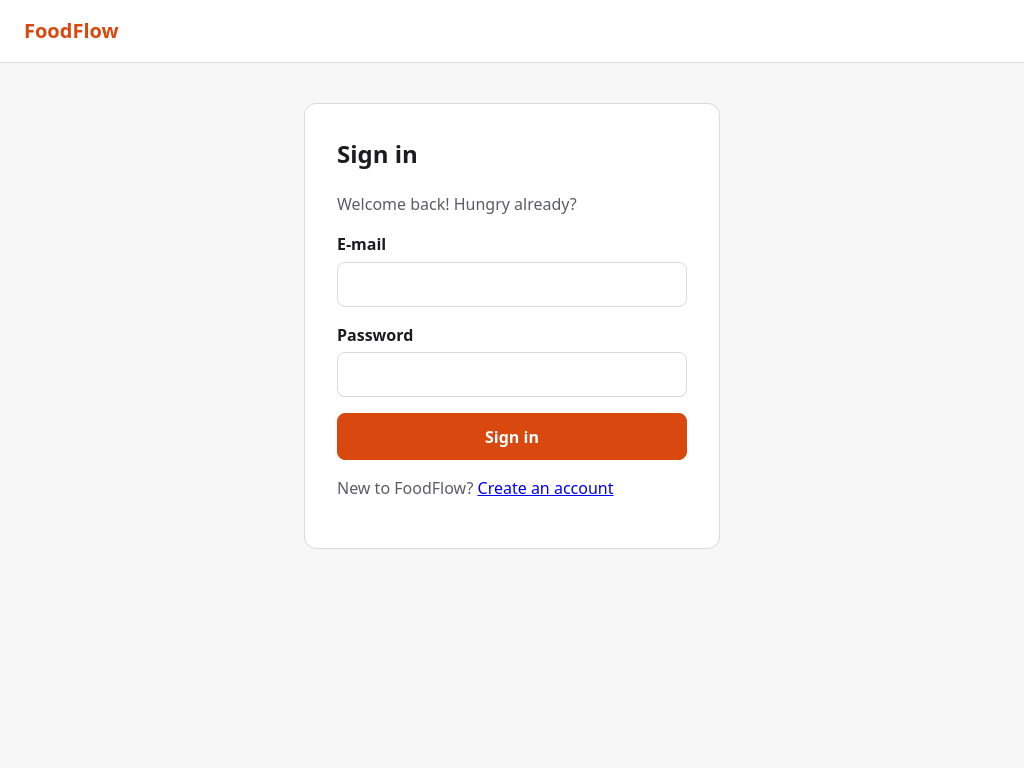
Test: sign in › explains a temporary lockout
The image size is (1024, 768).
Type "jane@example.com" into the field labelled "E-mail" at [512, 284], box [337,262,687,307]
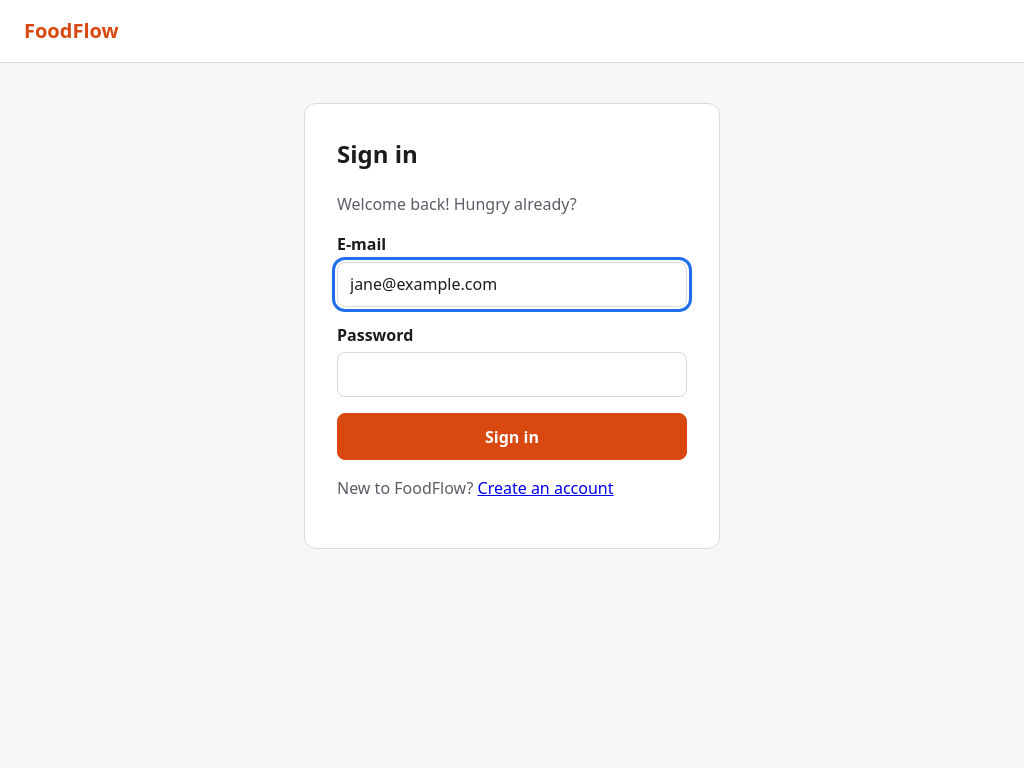
Type "whatever" into the password field labelled "Password" at [512, 375], box [337,352,687,398]
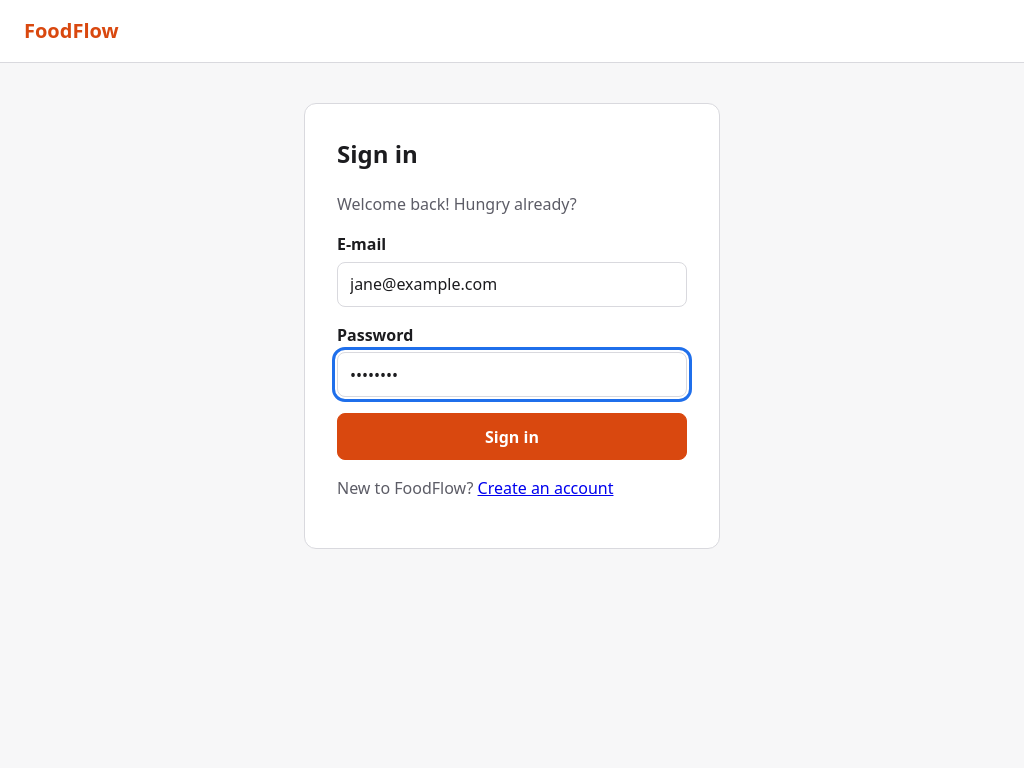
Click the button "Sign in" at [512, 437], box [337,414,687,460]
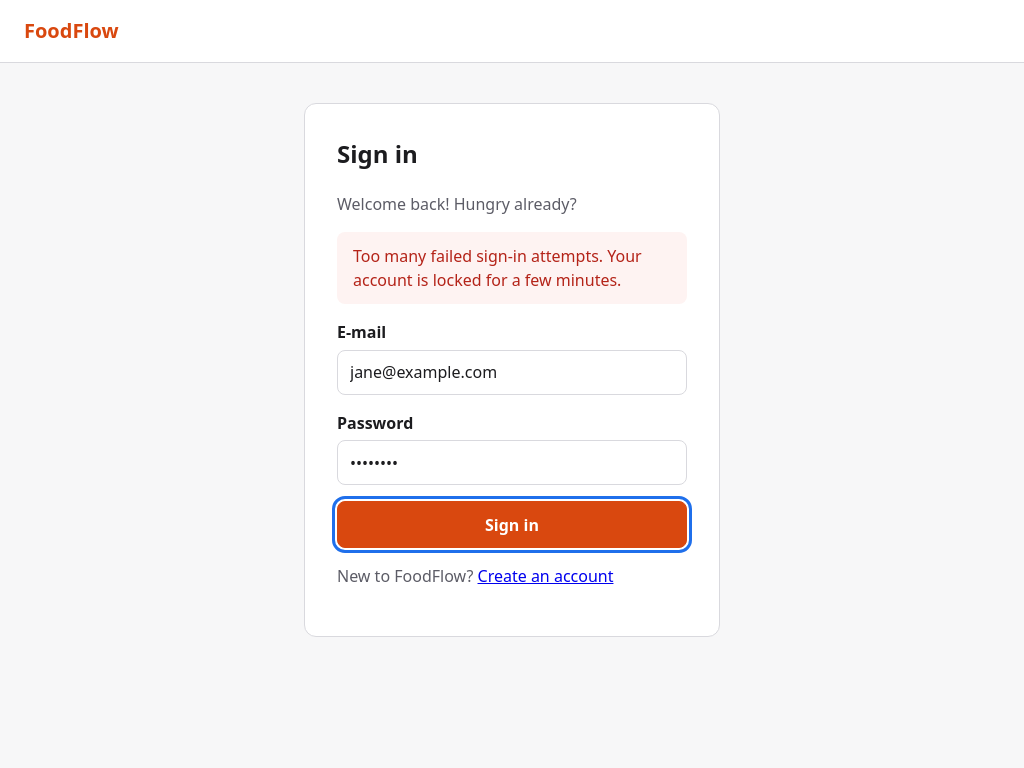
Expected: the message shows "locked for a few minutes", [353,245,642,291]
